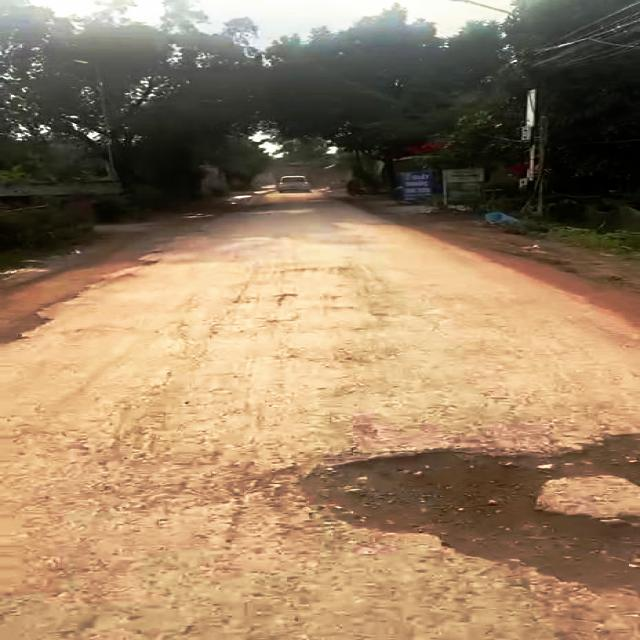pothole: (269, 428, 640, 592)
